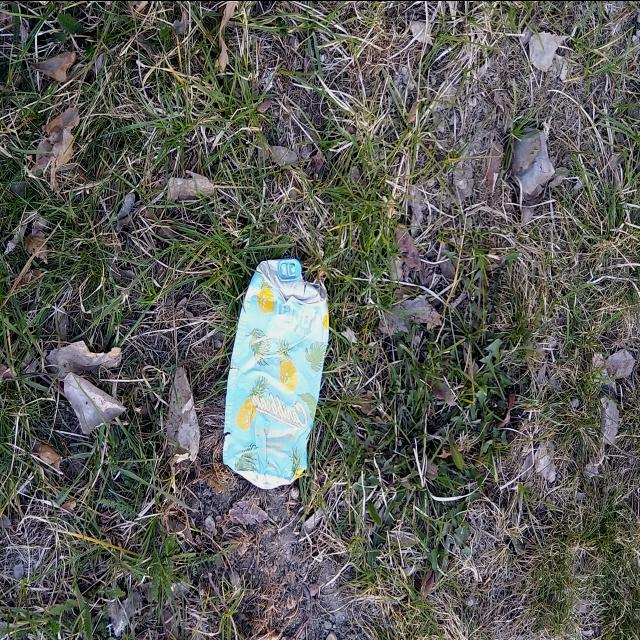Drink can: (223, 257, 329, 489)
Pop tab: (277, 257, 302, 280)
